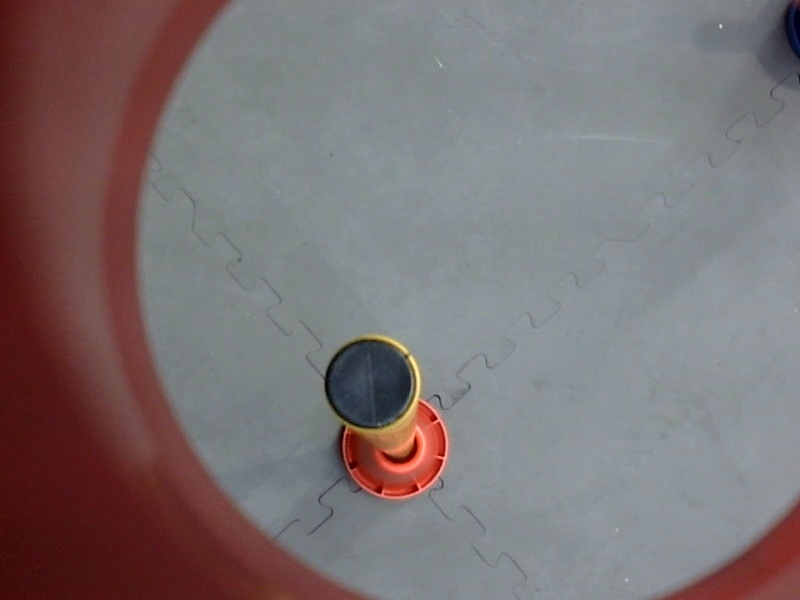tip: (317, 330, 426, 441)
